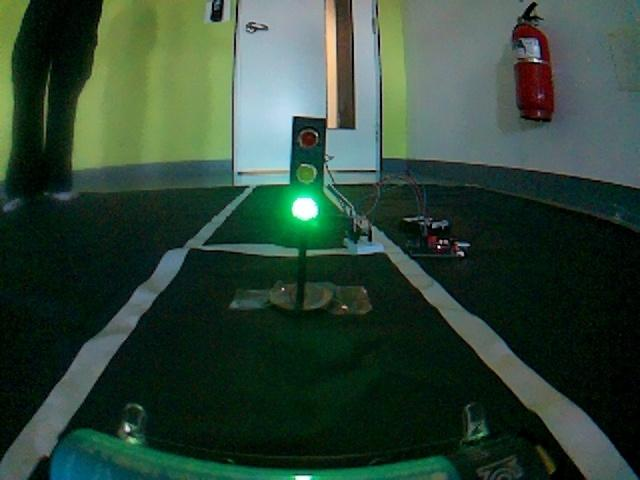go: (15, 336, 591, 480)
green_light: (209, 106, 392, 331)
